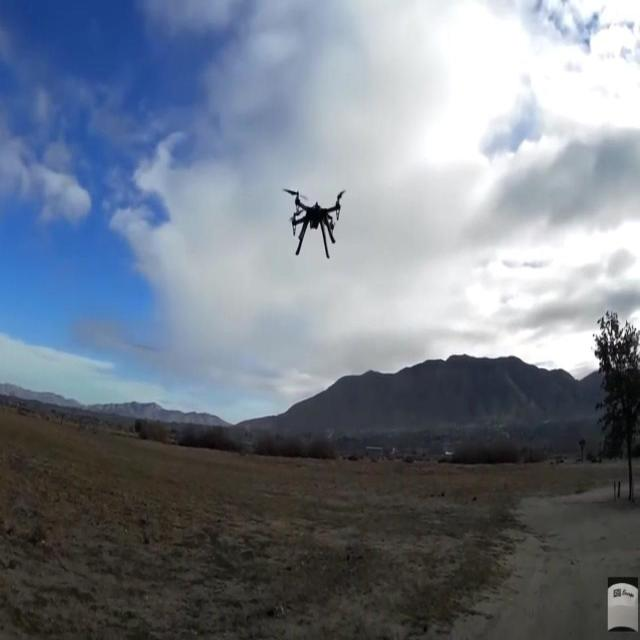drone: (282, 184, 346, 260)
